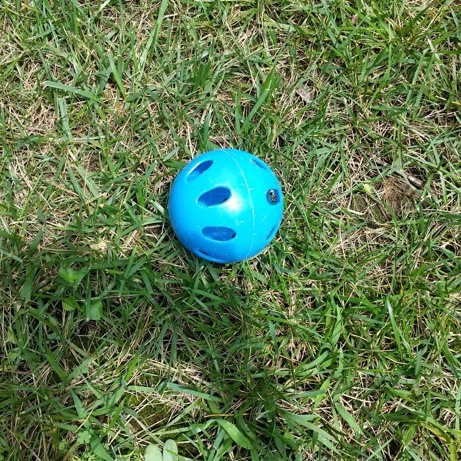ball: (165, 144, 291, 267)
